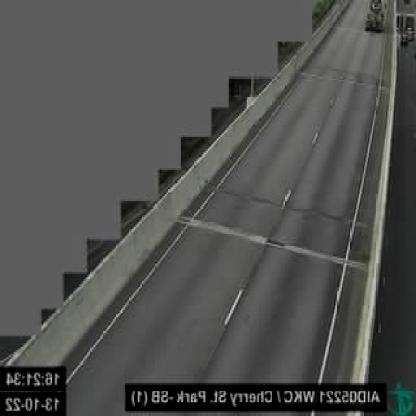Truck: (365, 0, 386, 31)
